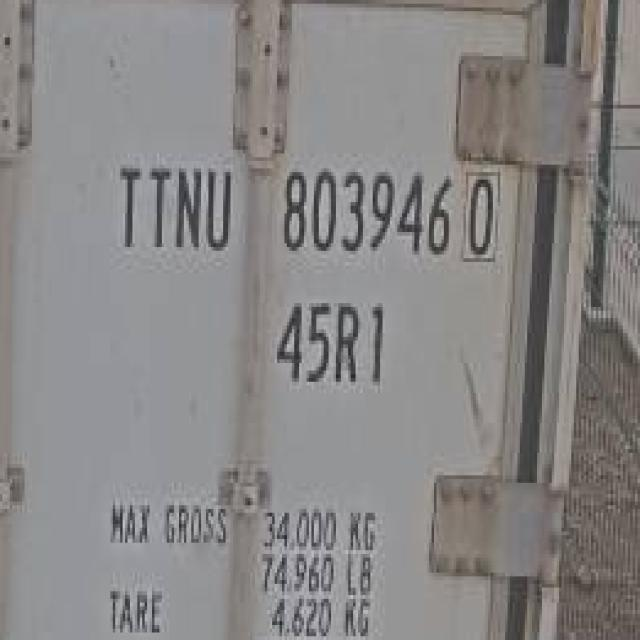dv: (456, 166, 504, 263)
owner: (104, 156, 244, 260)
serial: (275, 166, 452, 261)
size: (270, 286, 396, 392)
